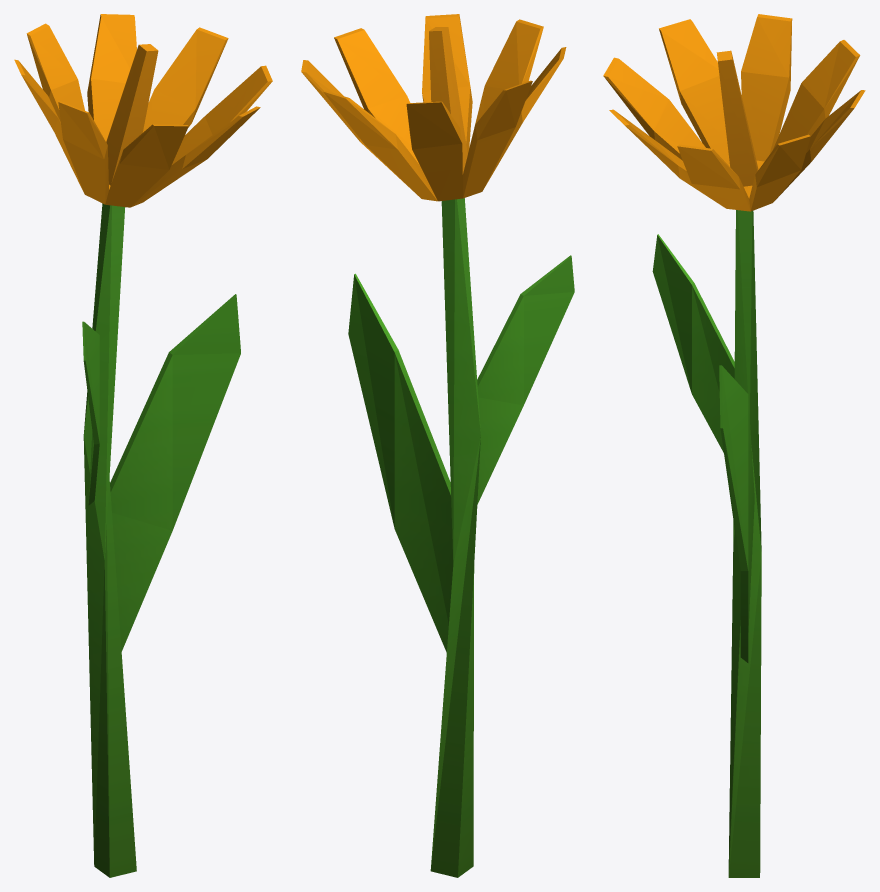
Rendered from flower_lily.glb.
The picture shows the model from 3 angles, left to right: view 1: azimuth 30°, elevation 25°; view 2: azimuth 150°, elevation 25°; view 3: azimuth 270°, elevation 25°; orthographic projection.
Parts seen in each view (by area): view 1: flower_lily; view 2: flower_lily; view 3: flower_lily.
Part boxes in pixels (box(x1,y1,x2,y2)): flower_lily: box(14, 14, 272, 877); flower_lily: box(301, 14, 574, 877); flower_lily: box(603, 14, 865, 877).
Bounding box in the file's own units: 0.1546 × 0.55 × 0.1579.
Materials: 1 (1 with a texture image).
